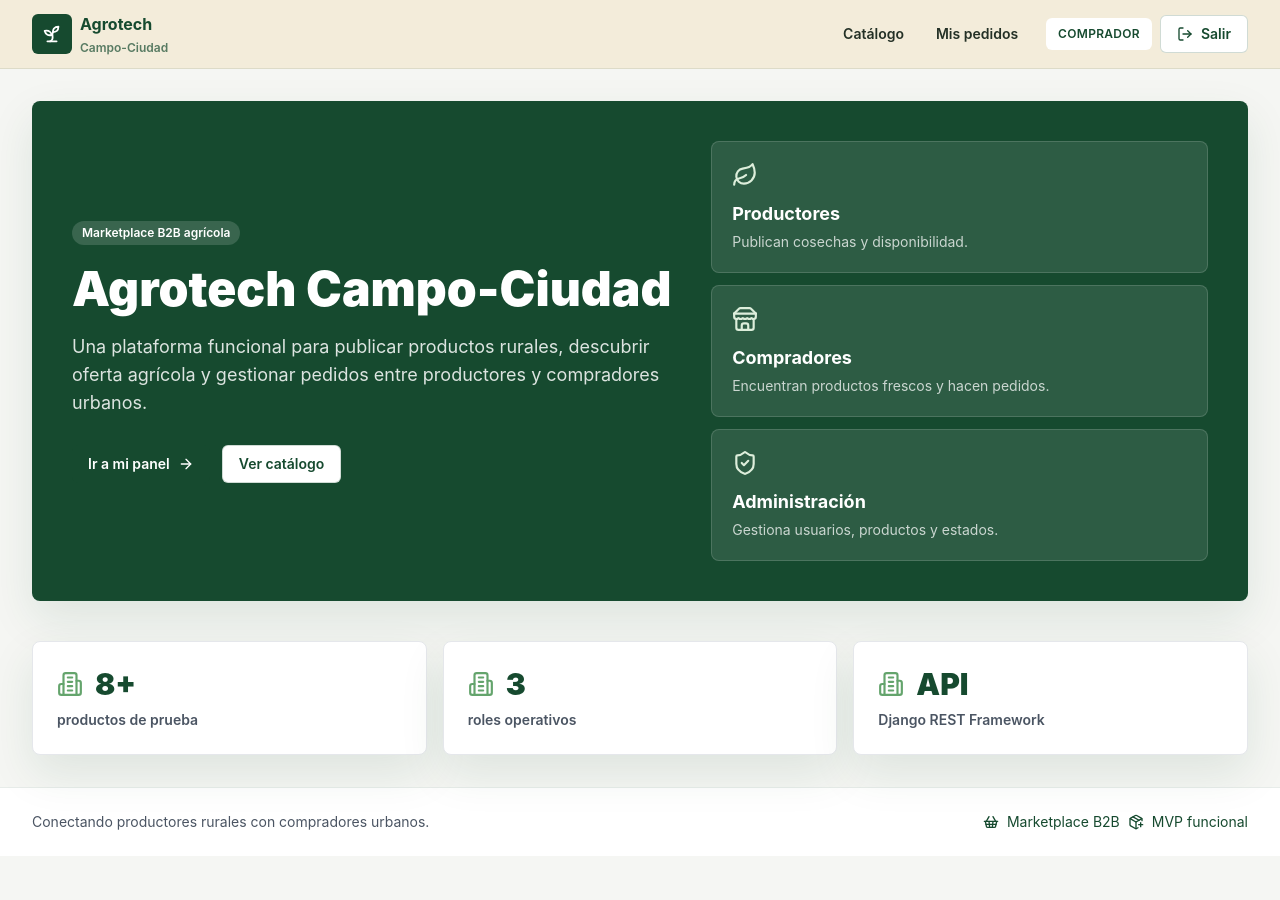
Test: navegación por rol › cierra sesión y vuelve al inicio
Click the button "Salir".
click(1204, 34)  # box [1160,15,1248,53]
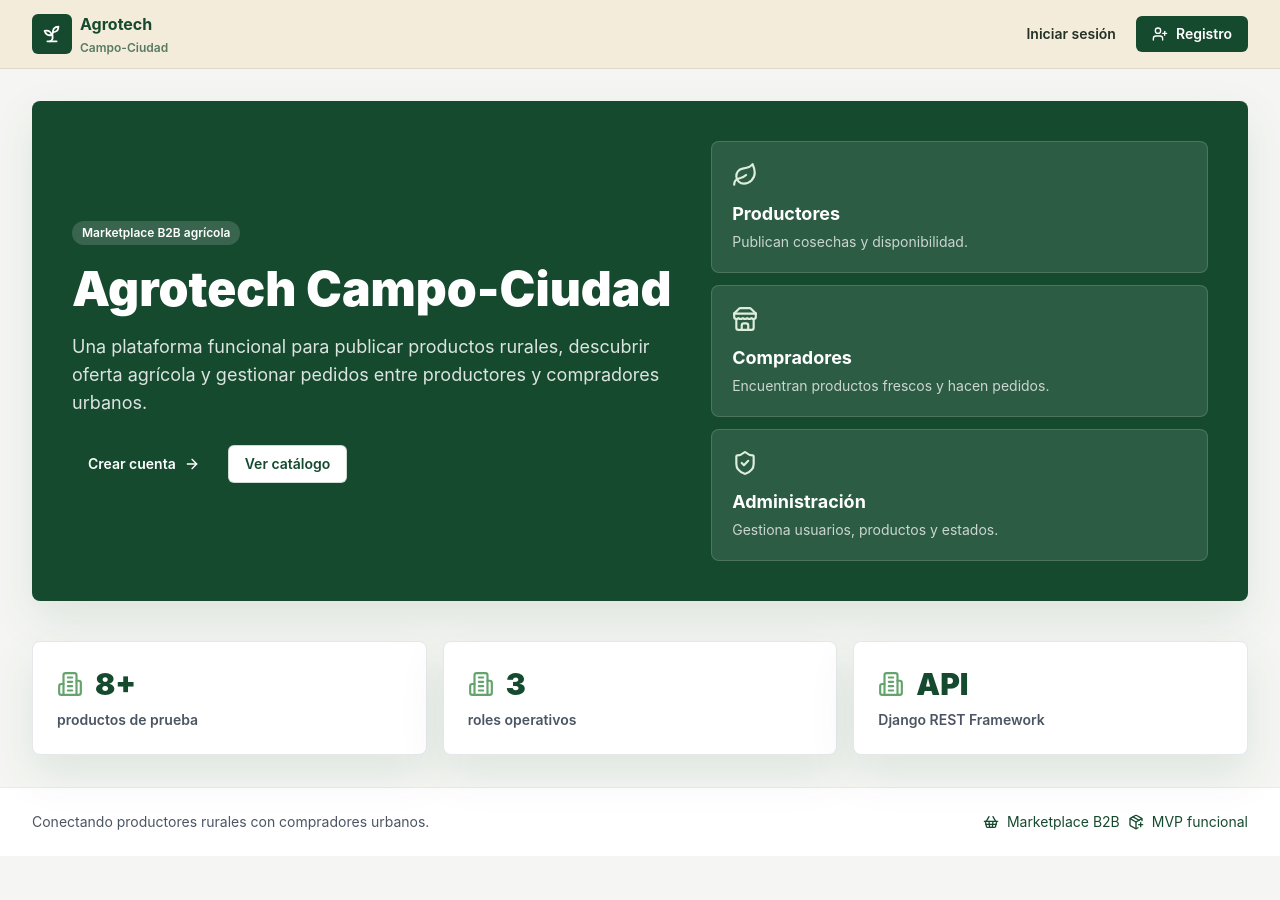
Now the link "Registro" is shown, box [1136,16,1248,52]
